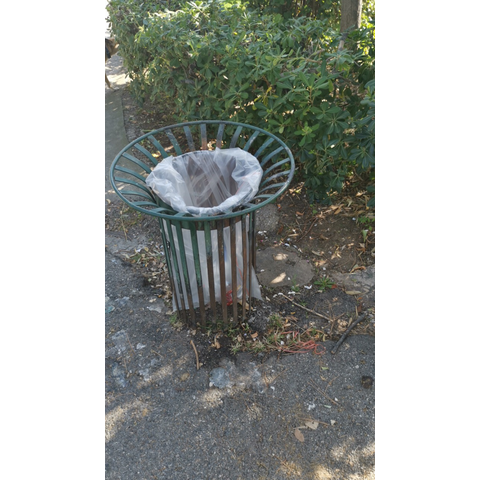poubelle: (109, 119, 305, 337)
